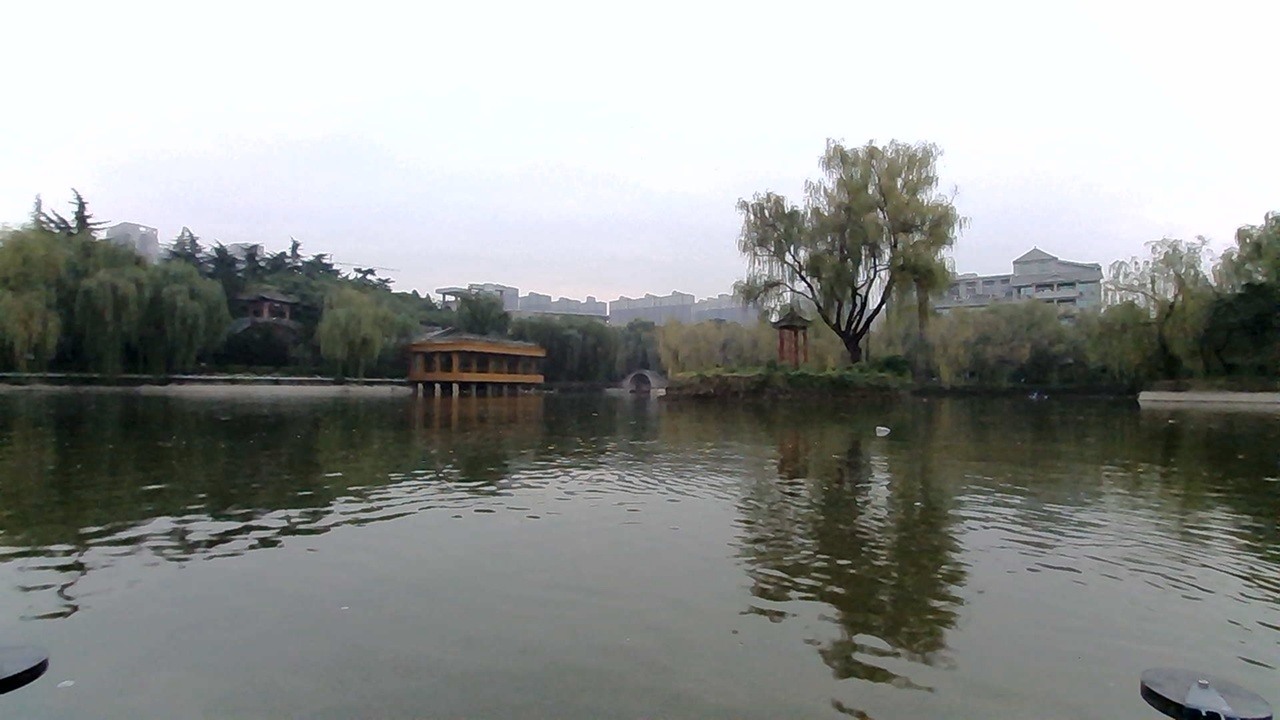bottle: (868, 411, 923, 443)
